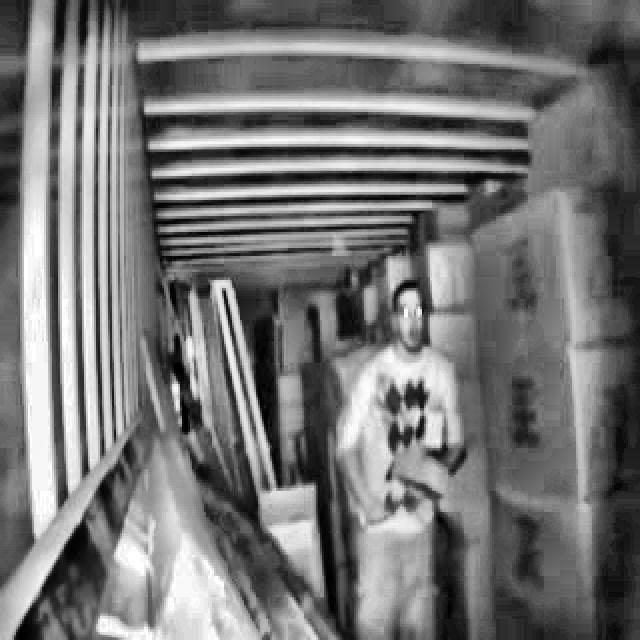burglary: (330, 277, 472, 640)
